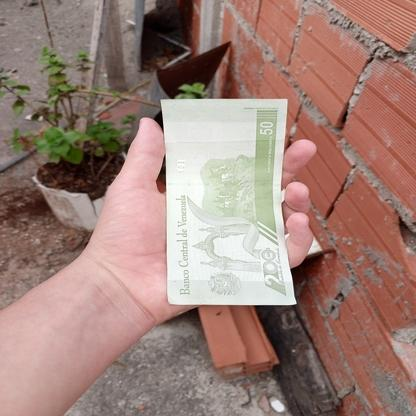fifty-back-vef: (160, 99, 296, 305)
